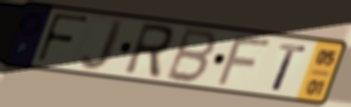B: (162, 25, 221, 86)
F: (33, 11, 92, 66), (213, 36, 275, 88)
J: (78, 17, 127, 74)
R: (120, 21, 177, 81)
T: (270, 41, 309, 93)
